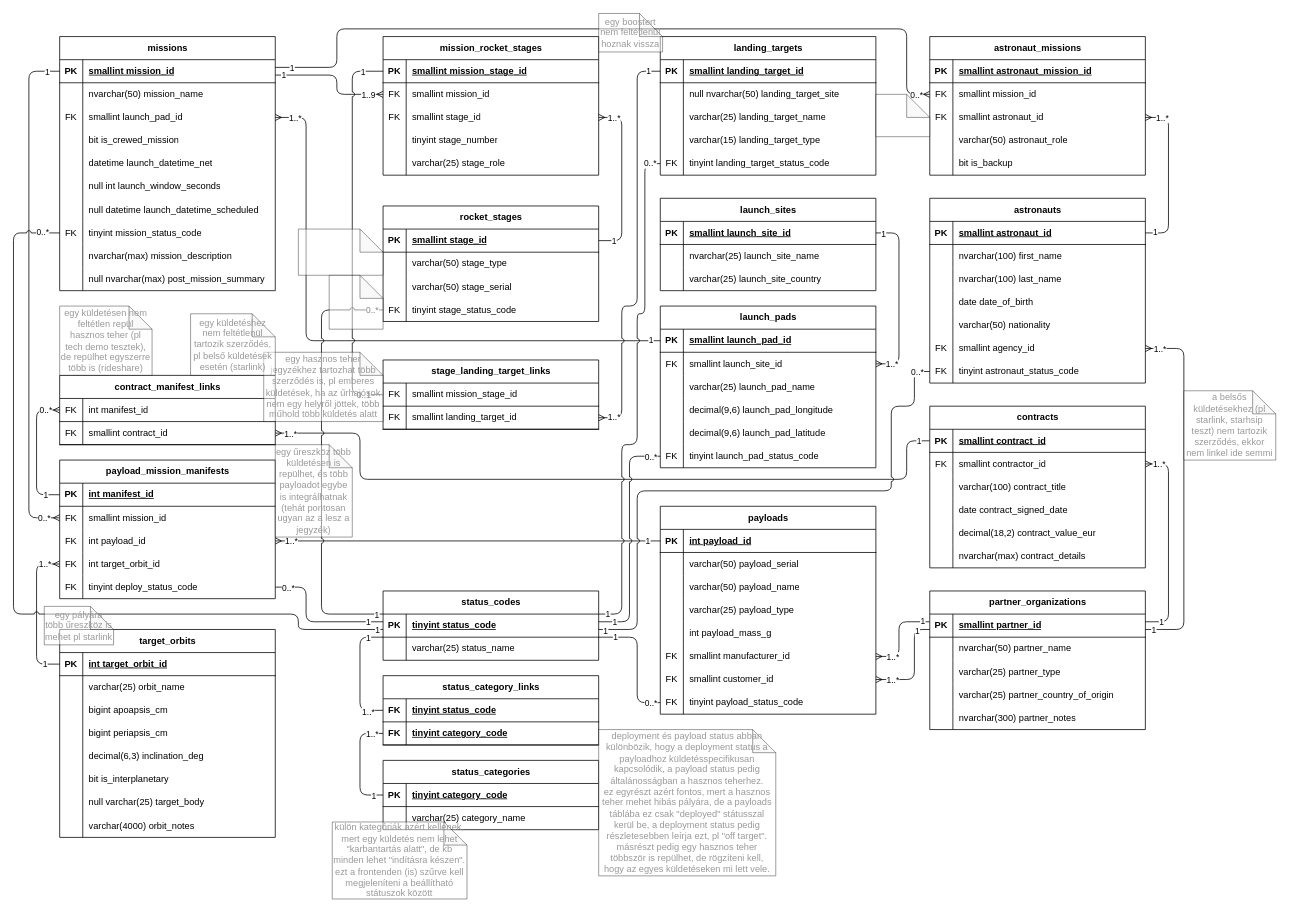
Some shapes in this 1290 by 912 pixel diagram are drawn without their labels. The centre of each missing label's shape, as x and y in pixels:
"egy küldetéshez több booster is tartozhat, pl falcon heavy, atlas v etc" belongs at (x=340, y=251).
"max: 6 oldalsó + 1 első + 1 második + 1 kickstage" belongs at (x=355, y=302).
"null mert drónhajóknak nincsen helynevük" belongs at (x=902, y=115).
